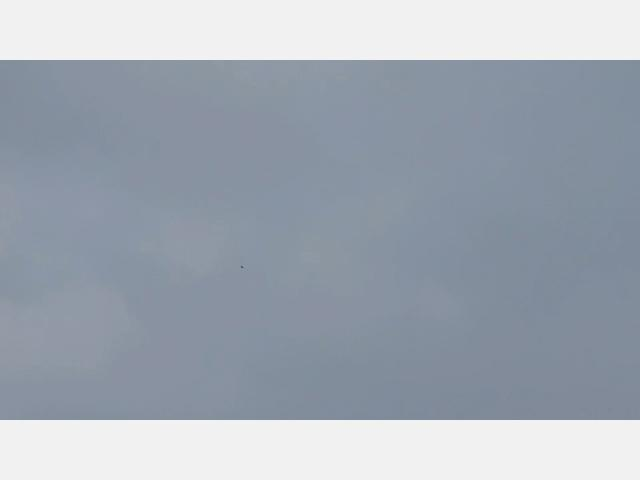Anti-Drone: (239, 265, 245, 269)
